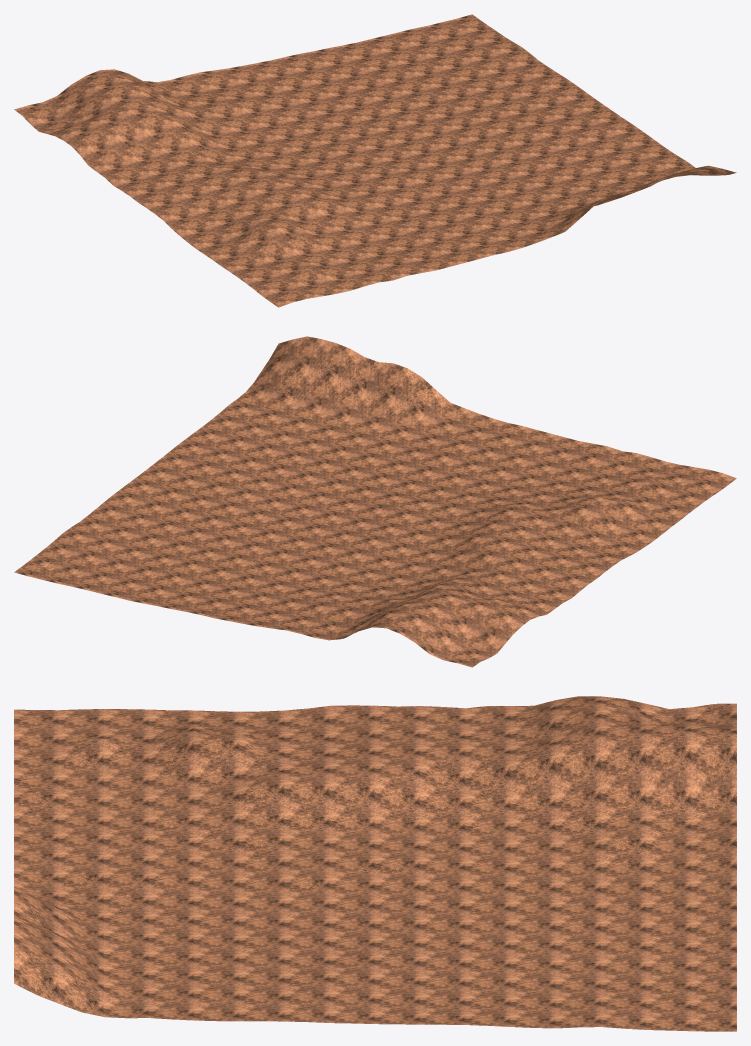
Rendered from terrain_07_02.dae.
The picture shows the model from 3 angles, top to bottom: view 1: azimuth 30°, elevation 25°; view 2: azimuth 150°, elevation 25°; view 3: azimuth 270°, elevation 25°; orthographic projection. The views are drawn at different scales.
Visible parts, largest first — view 1: terrain_07_02-node; view 2: terrain_07_02-node; view 3: terrain_07_02-node.
Part boxes in pixels (x1,y1,x2,y2): terrain_07_02-node: (14, 14, 736, 307); terrain_07_02-node: (14, 336, 736, 667); terrain_07_02-node: (14, 696, 736, 1031).
Bounding box in the file's own units: 128 × 128 × 13.51.
1 material, 1 textured.
